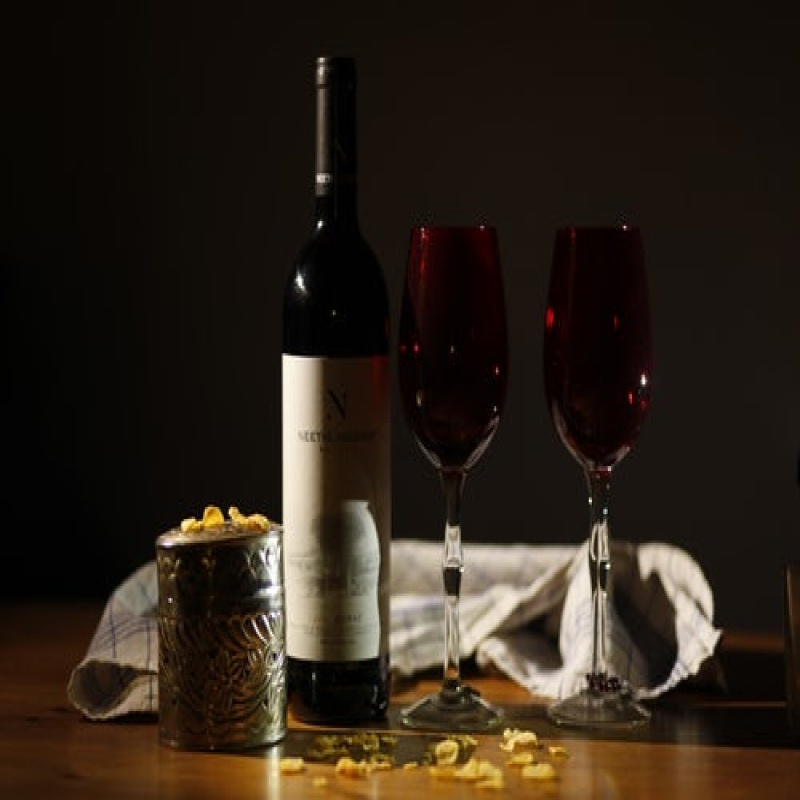wine: (275, 55, 406, 718)
